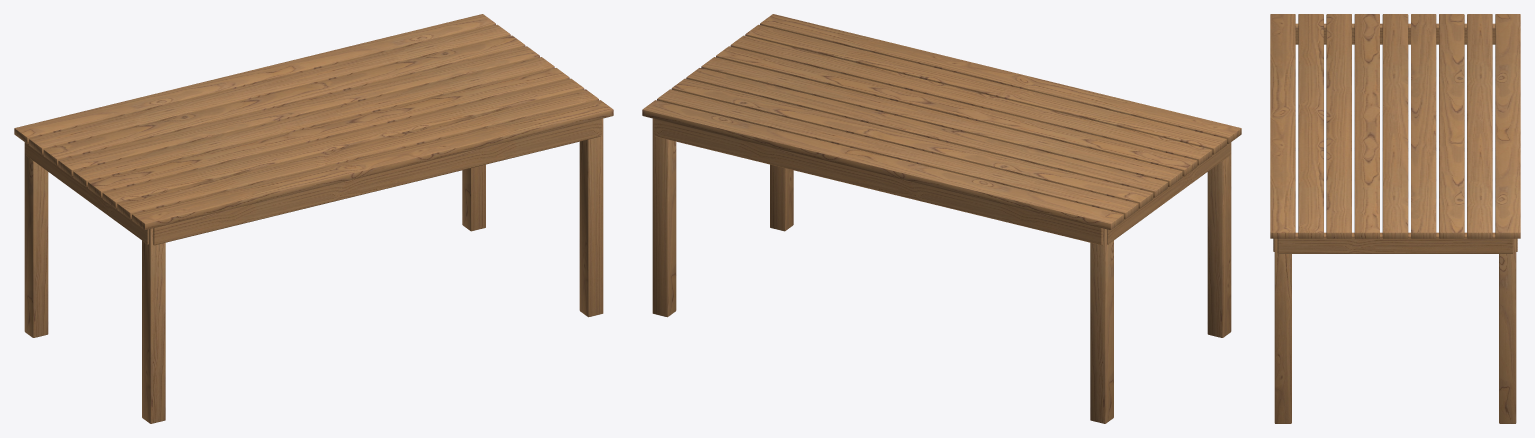
The model's file is mesa_teca_exterior_180.glb.
3 views of the same model, side by side, from view 1: azimuth 30°, elevation 25°; view 2: azimuth 150°, elevation 25°; view 3: azimuth 270°, elevation 25° (orthographic). The views are drawn at different scales.
Parts seen in each view (by area): view 1: mesa_teca_exterior_180; view 2: mesa_teca_exterior_180; view 3: mesa_teca_exterior_180.
Boxes of the visible parts, box(x1,y1,x2,y2) form: mesa_teca_exterior_180: box(14, 14, 613, 423); mesa_teca_exterior_180: box(642, 14, 1241, 423); mesa_teca_exterior_180: box(1270, 14, 1520, 423).
Size of the model in its own units: 1.8 by 0.75 by 0.8711.
1 material, 1 textured.
